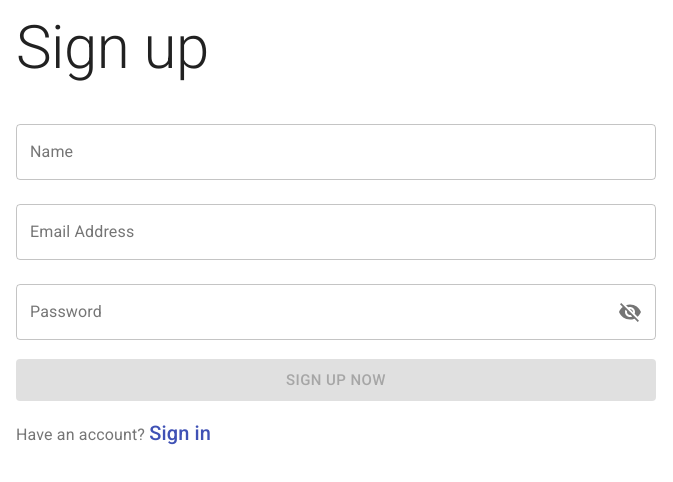
register: after entering a short password then the button should be disabled
The image size is (673, 482).
Type "123" into the password field labelled "Password". click: (307, 312)
box: x1=16 y1=284 x2=598 y2=340
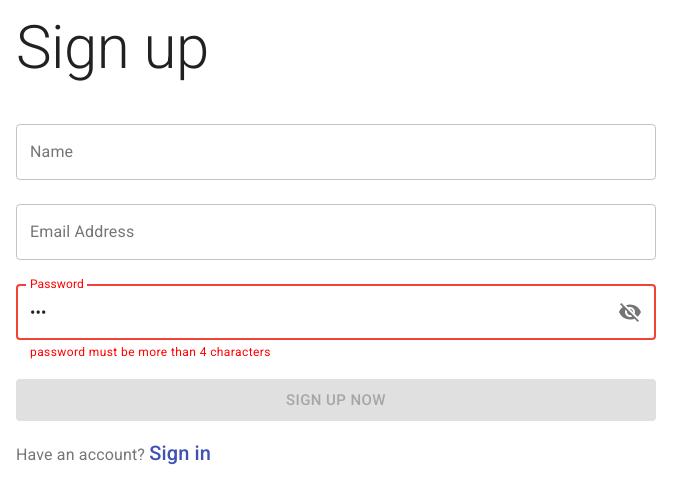
Expected: the button "Sign up now" is disabled, x1=16 y1=379 x2=656 y2=421
Now the text "password must be more than 4 characters" is shown, box x1=30 y1=345 x2=271 y2=359
